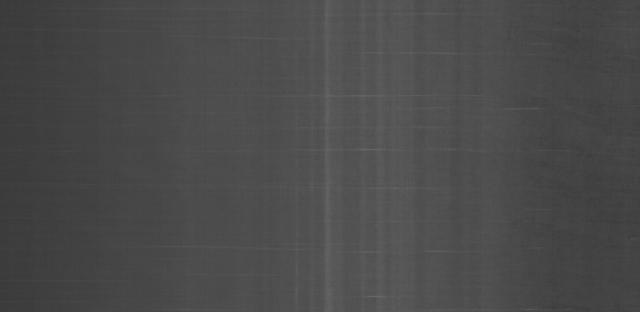waist_folding: (257, 20, 489, 286)
